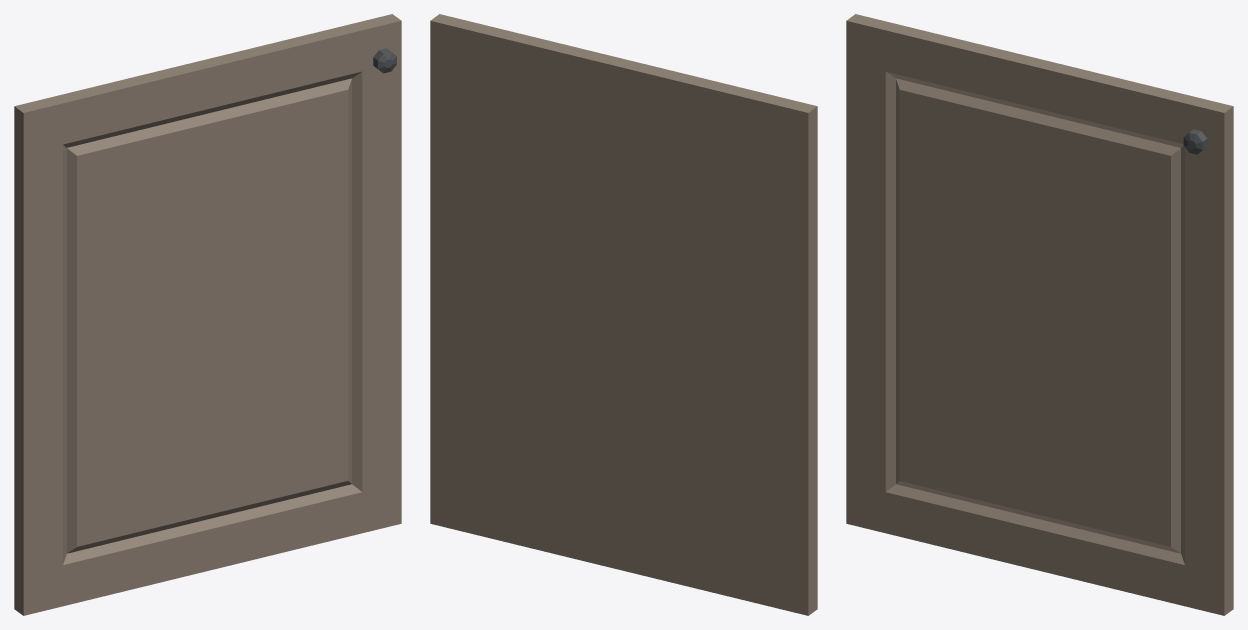
File: Door3_C5_02.fbx
3 renders of one model, left to right at view 1: azimuth 30°, elevation 25°; view 2: azimuth 150°, elevation 25°; view 3: azimuth 330°, elevation 25°, orthographic.
Parts seen in each view (by area): view 1: Door3_C5_02; view 2: Door3_C5_02; view 3: Door3_C5_02.
Boxes of the visible parts, bbox=[...] form: Door3_C5_02: bbox=[14, 14, 401, 615]; Door3_C5_02: bbox=[430, 14, 817, 615]; Door3_C5_02: bbox=[846, 14, 1233, 615].
Size of the model in its own units: 59 by 75 by 5.19.
